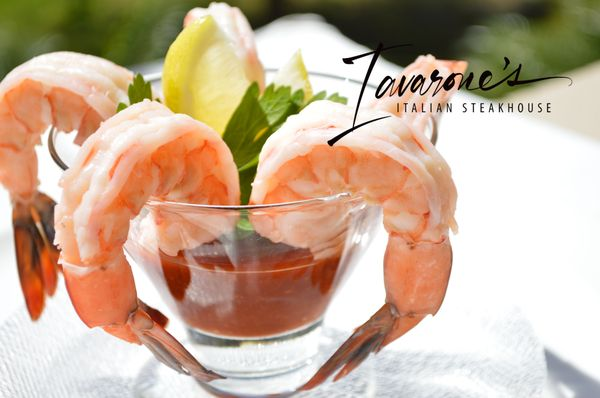taco: (161, 3, 267, 137)
